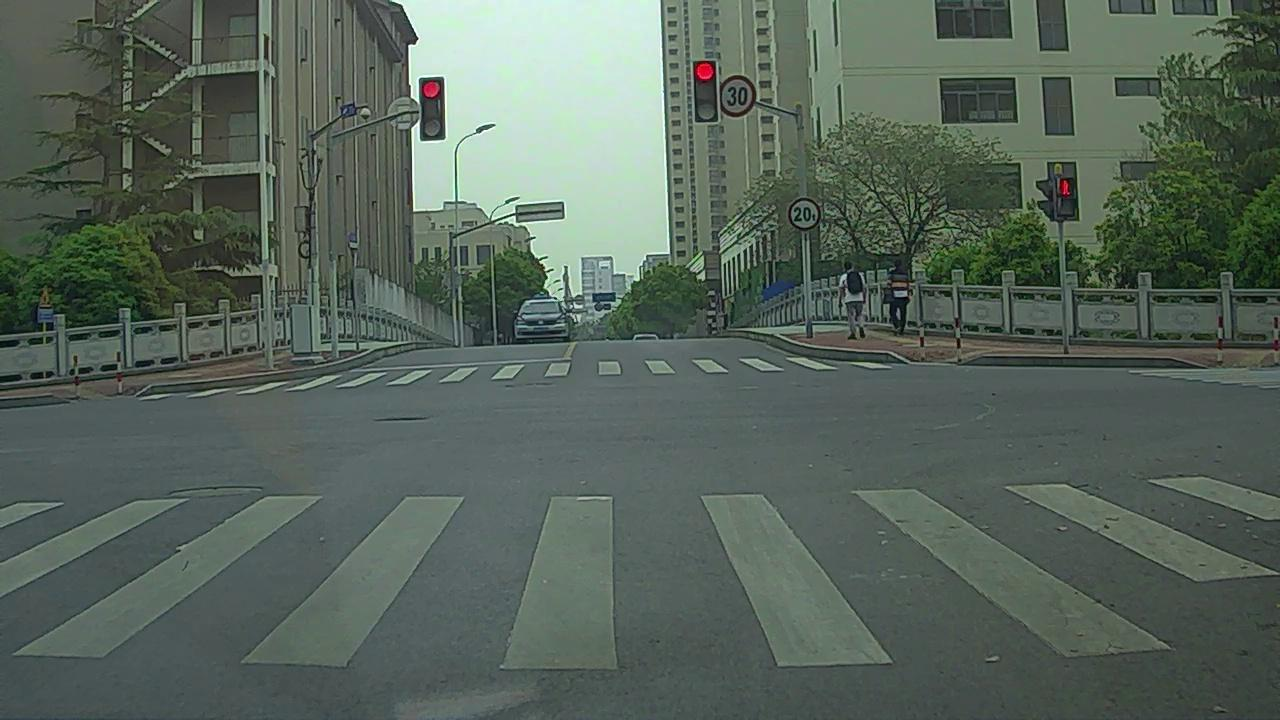traffic_light: (419, 79, 443, 143), (421, 77, 444, 141), (697, 60, 717, 122)
